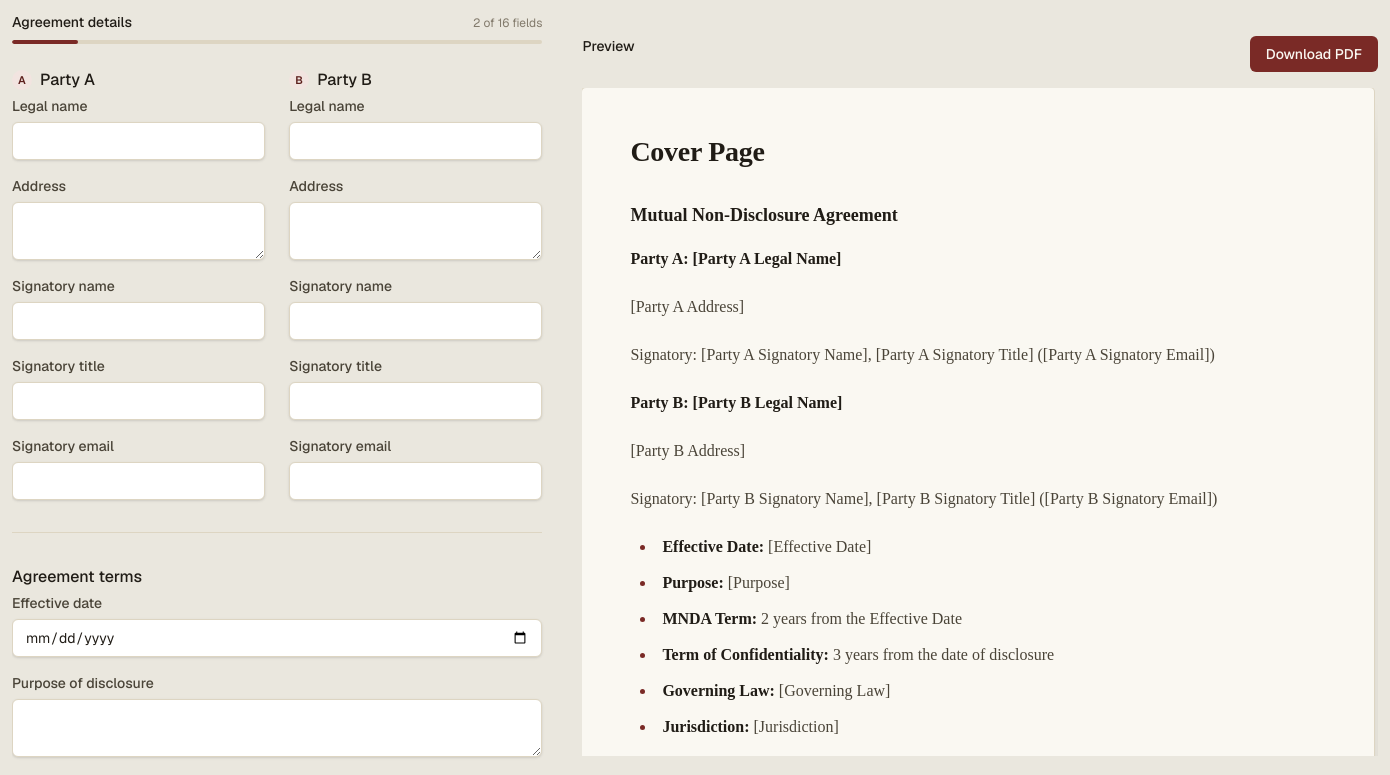
NdaBuilder › clears a previous error on the next successful download
Click the button "Download PDF": (1314, 54) x1=1250 y1=36 x2=1378 y2=72
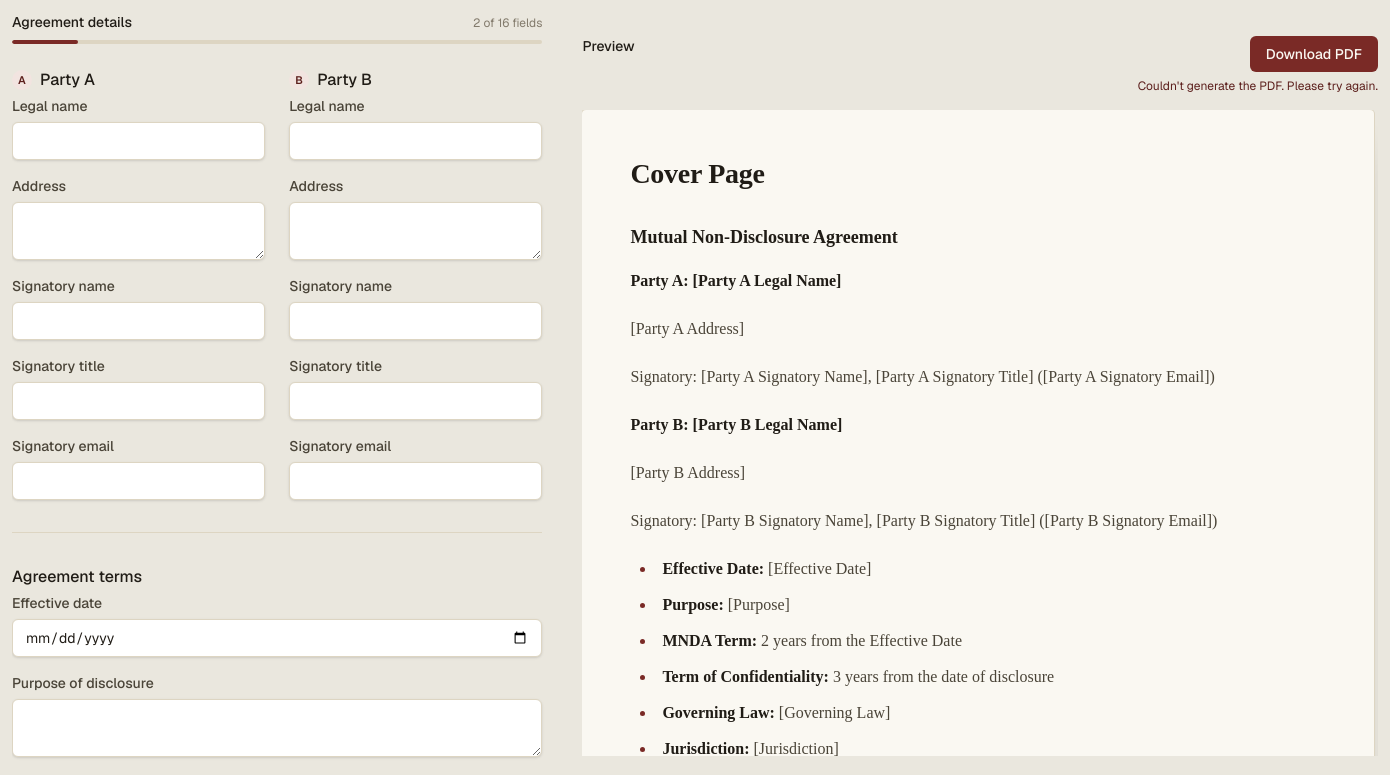
Check: the message "Couldn't generate the PDF. Please try again." is shown, box x1=1138 y1=78 x2=1378 y2=94
Click the button "Download PDF": (1314, 54) x1=1250 y1=36 x2=1378 y2=72
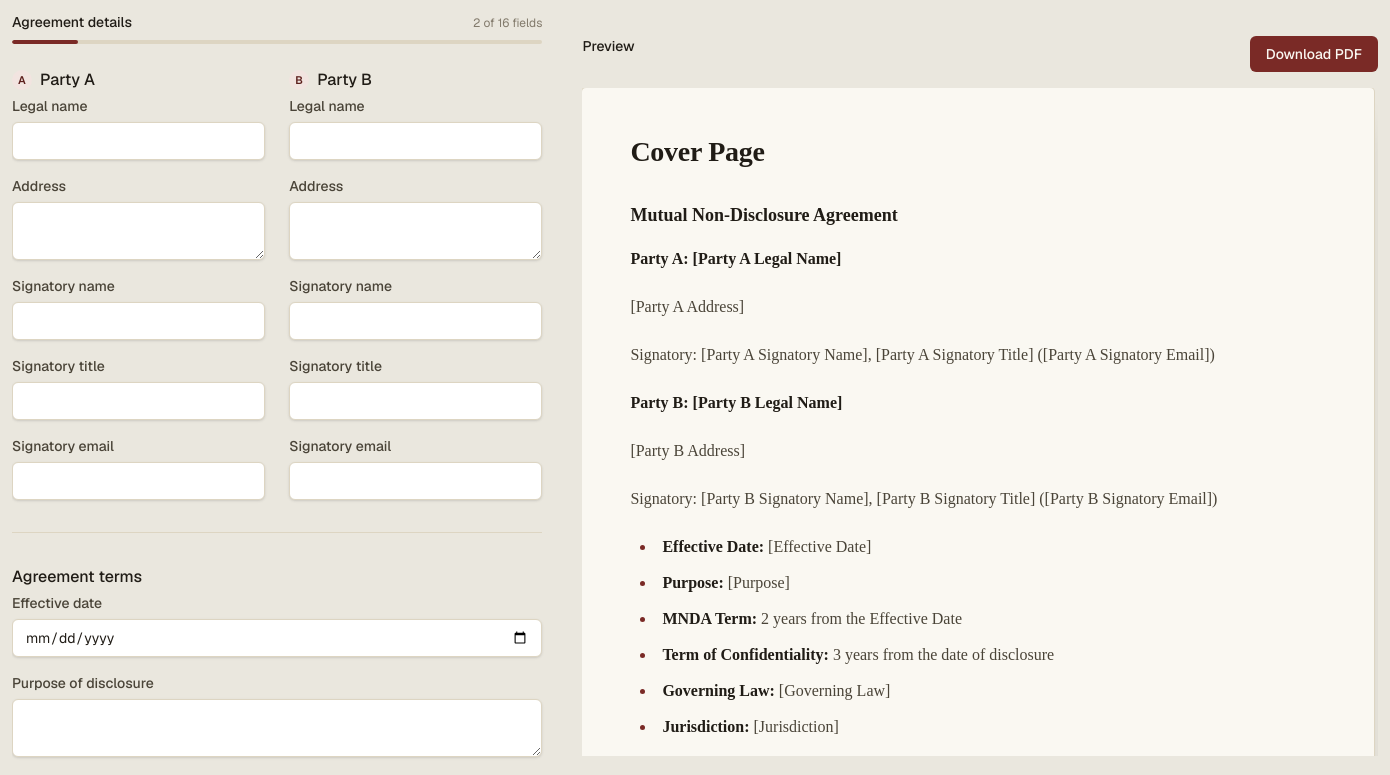
Check: the message "Couldn't generate the PDF. Please try again." is gone
